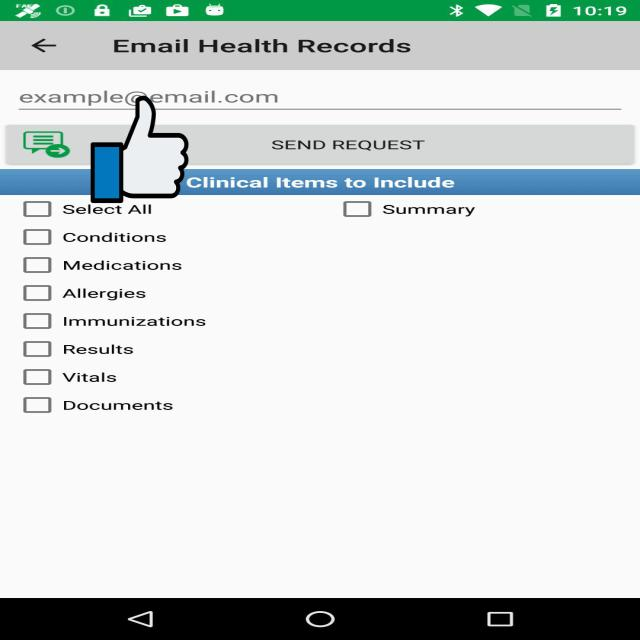privacy zuckering: (90, 94, 188, 205)
